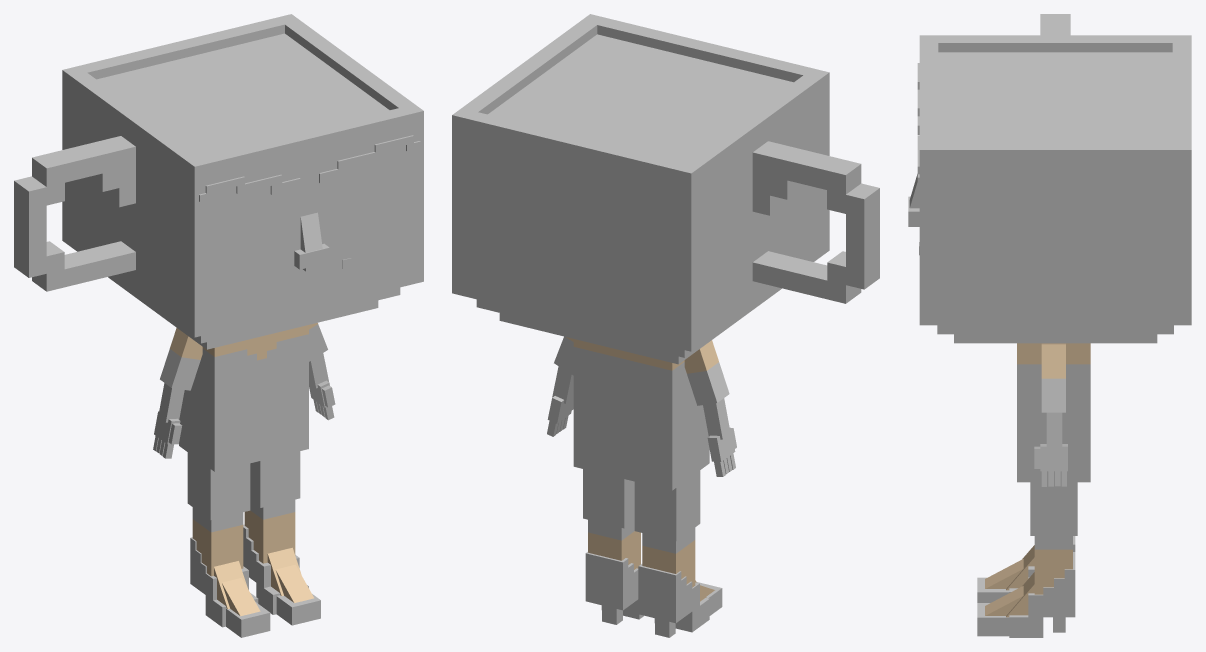
3 renders of one model, left to right at view 1: azimuth 30°, elevation 25°; view 2: azimuth 150°, elevation 25°; view 3: azimuth 270°, elevation 25°, orthographic. The views are drawn at different scales.
Parts seen in each view (by area): view 1: Pack 9.002; view 2: Pack 9.002; view 3: Pack 9.002.
Part boxes in pixels (<box>): Pack 9.002: <box>14,14,423,637</box>; Pack 9.002: <box>452,14,879,637</box>; Pack 9.002: <box>908,14,1191,637</box>.
Bounding box in the file's own units: 216 × 312 × 153.
